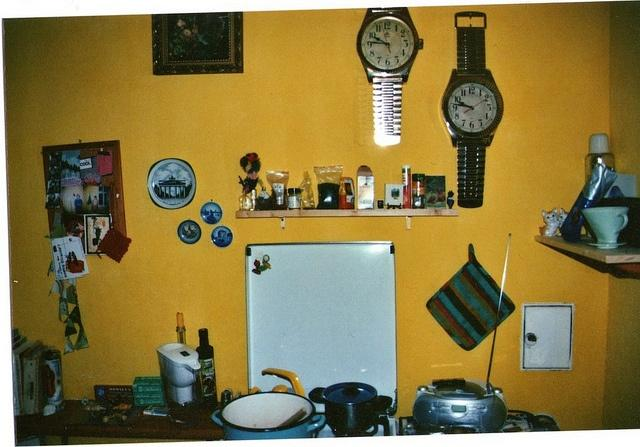Whiteboard: (244, 240, 398, 414)
